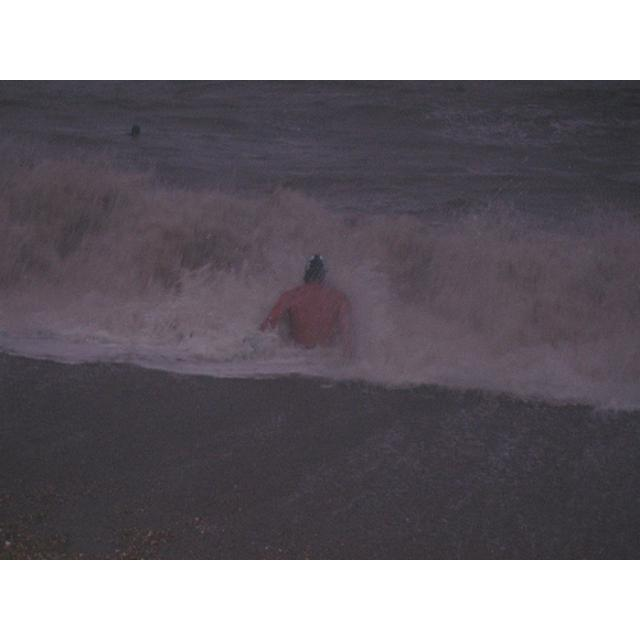human: (261, 253, 358, 355)
